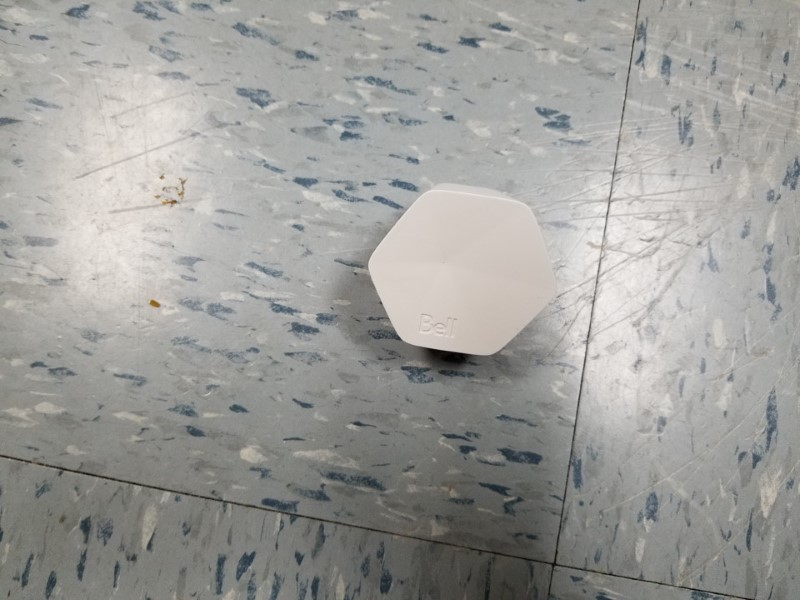pod: (364, 181, 559, 368)
